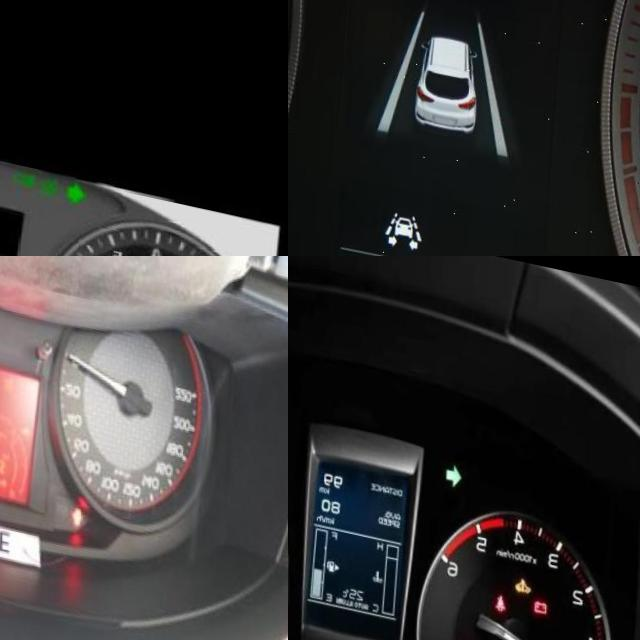Seat Belt: (77, 489, 91, 511), (501, 574, 513, 593)
